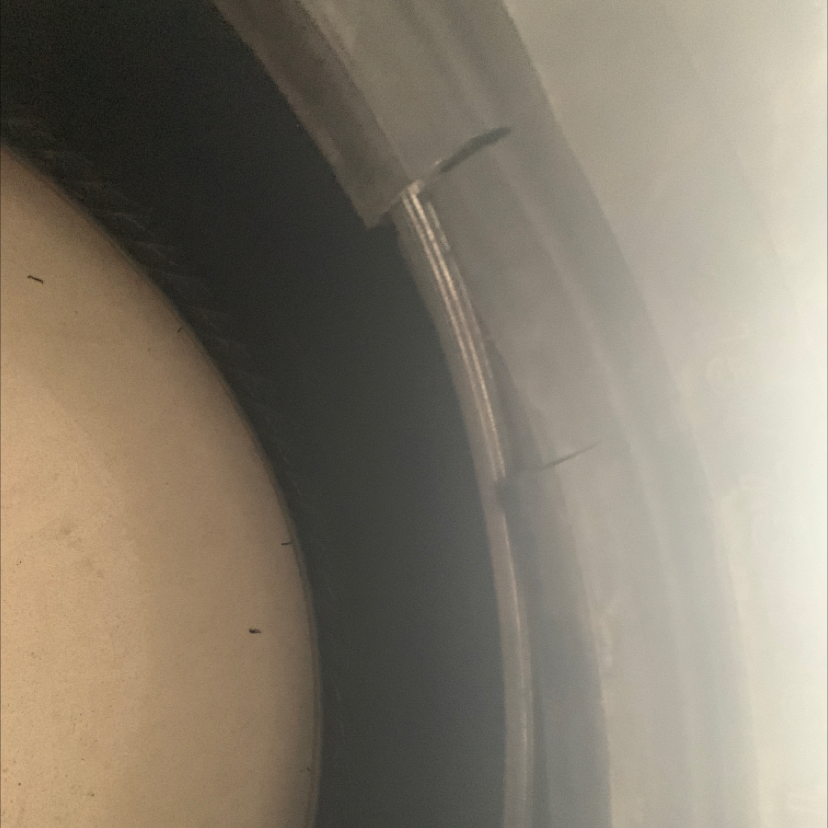bead_damage: (357, 109, 624, 825)
